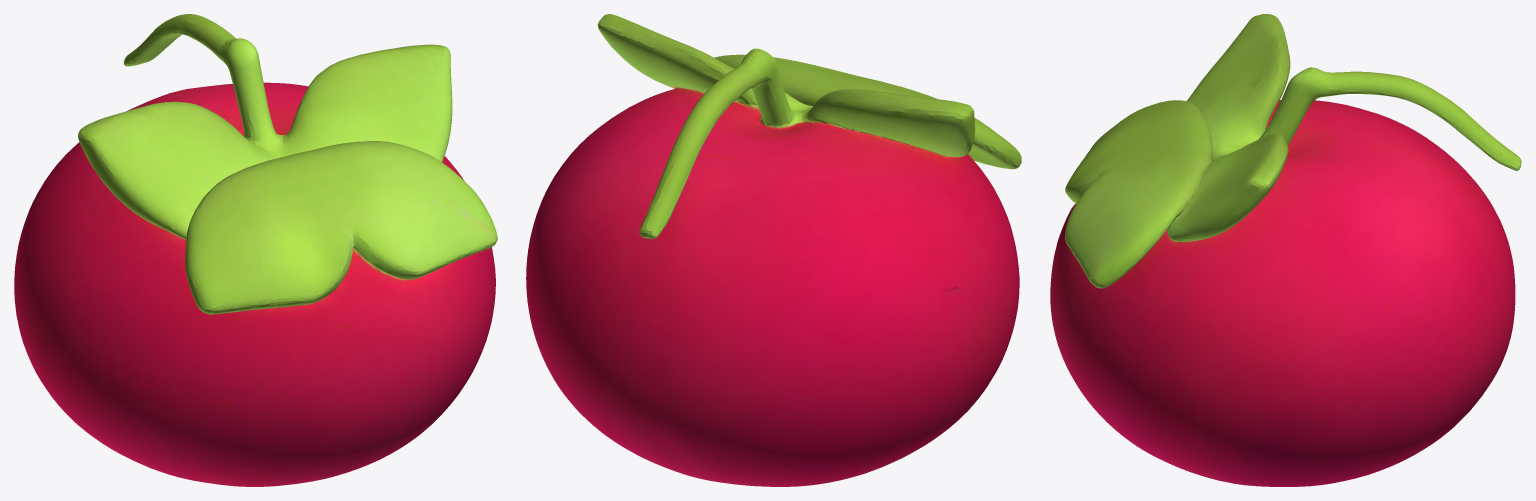
The model's file is tomato.glb.
The picture shows the model from 3 angles, left to right: view 1: azimuth 30°, elevation 25°; view 2: azimuth 150°, elevation 25°; view 3: azimuth 270°, elevation 25°; orthographic projection. The views are drawn at different scales.
Visible parts, largest first — view 1: model; view 2: model; view 3: model.
Boxes of the visible parts, bbox=[...] form: model: bbox=[14, 14, 497, 486]; model: bbox=[526, 14, 1021, 486]; model: bbox=[1050, 14, 1521, 486].
Size of the model in its own units: 0.9874 by 0.8737 by 1.
1 material, 1 textured.
